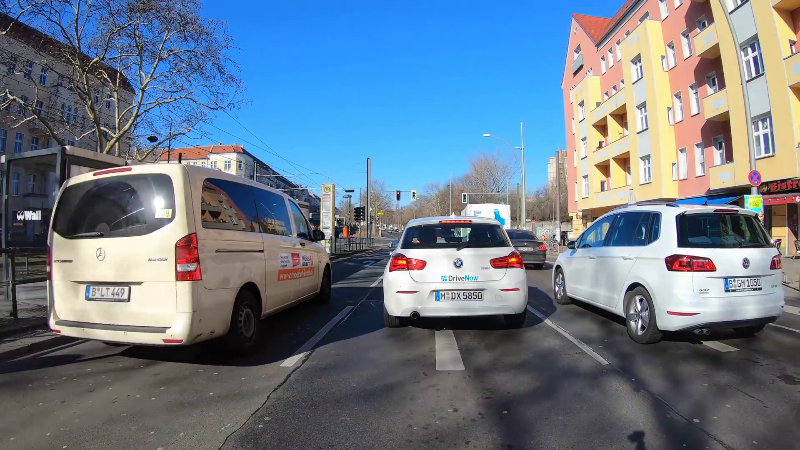Plate: (85, 285, 129, 299), (434, 289, 481, 302), (724, 277, 764, 289)
